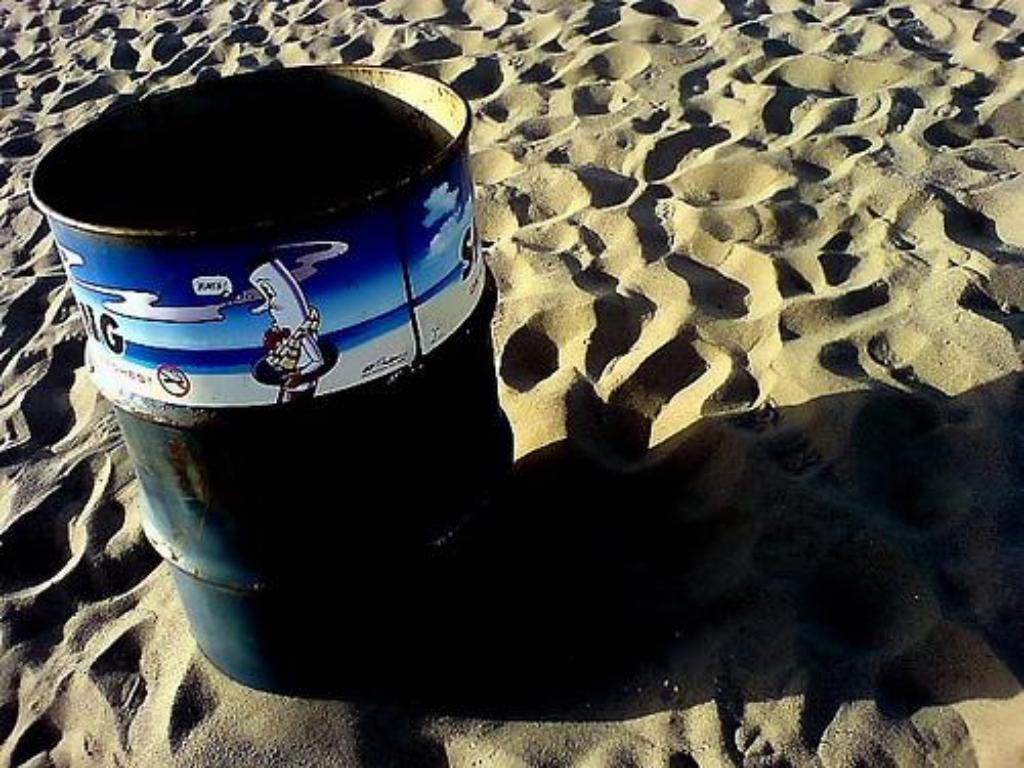dustbin: (12, 58, 548, 703)
